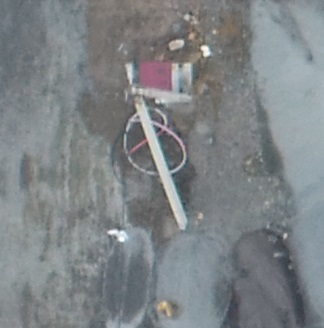opora: (119, 58, 193, 232)
